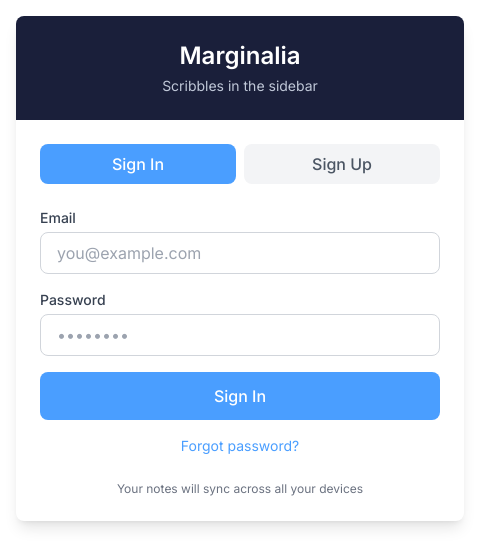
Options › Sign In form › should disable button while signing in
This screenshot has width=481, height=547.
(page scrolled)
Type "test@example.com" into the field with test id "email-input".
click(240, 253); type("test@example.com")  # box [40, 232, 440, 274]
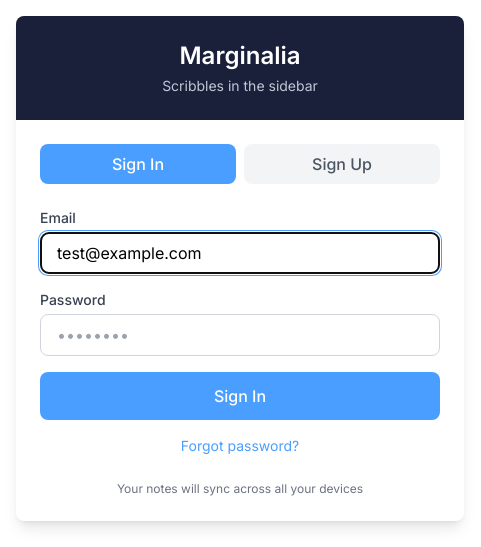
Type "password123" into the password field with test id "password-input".
click(240, 335); type("password123")  # box [40, 314, 440, 356]
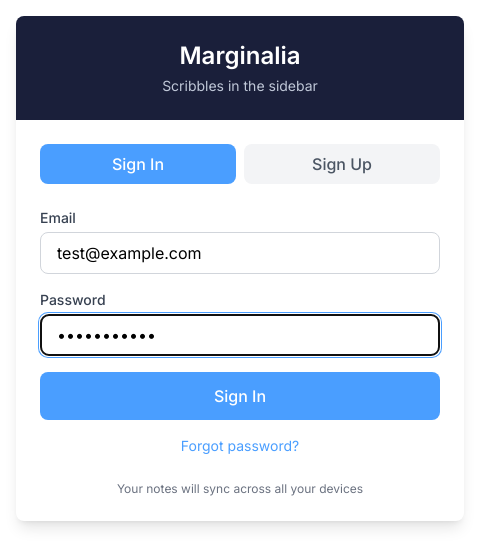
Click the button with test id "signin-submit-button".
click(240, 396)  # box [40, 372, 440, 420]
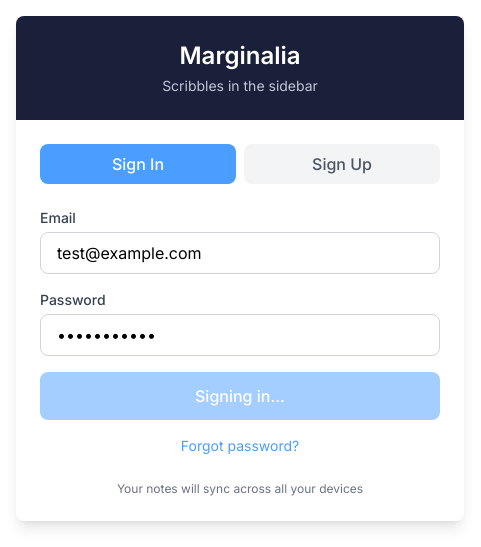
expect the button with test id "signin-submit-button" is disabled: met, box [40, 372, 440, 420]
expect the button with test id "signin-submit-button" shows "Signing in": met, box [40, 372, 440, 420]
